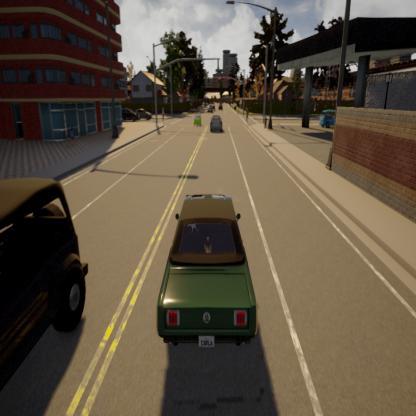Cars: (0, 118, 93, 411), (133, 181, 269, 370), (319, 104, 336, 134), (138, 104, 158, 128), (210, 108, 224, 140), (122, 101, 140, 125), (192, 112, 204, 132), (208, 97, 218, 114), (218, 100, 225, 111)
Pedestrian: (242, 99, 252, 129), (159, 103, 166, 126), (264, 112, 268, 136)
